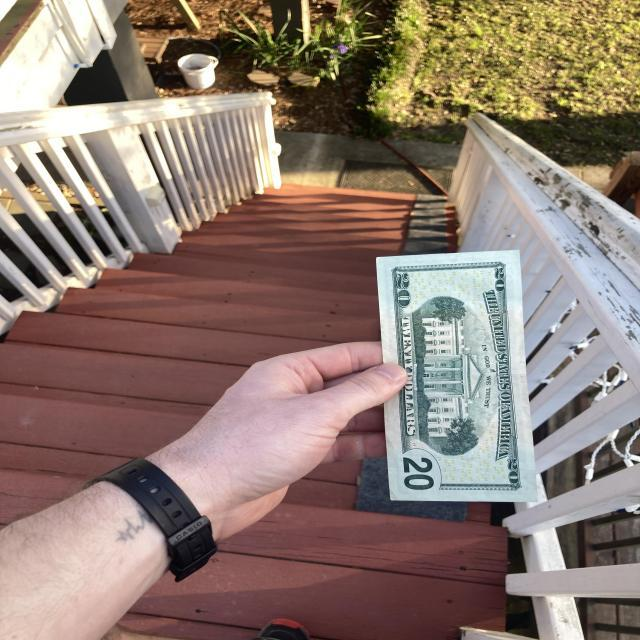twenty: (374, 248, 539, 502)
